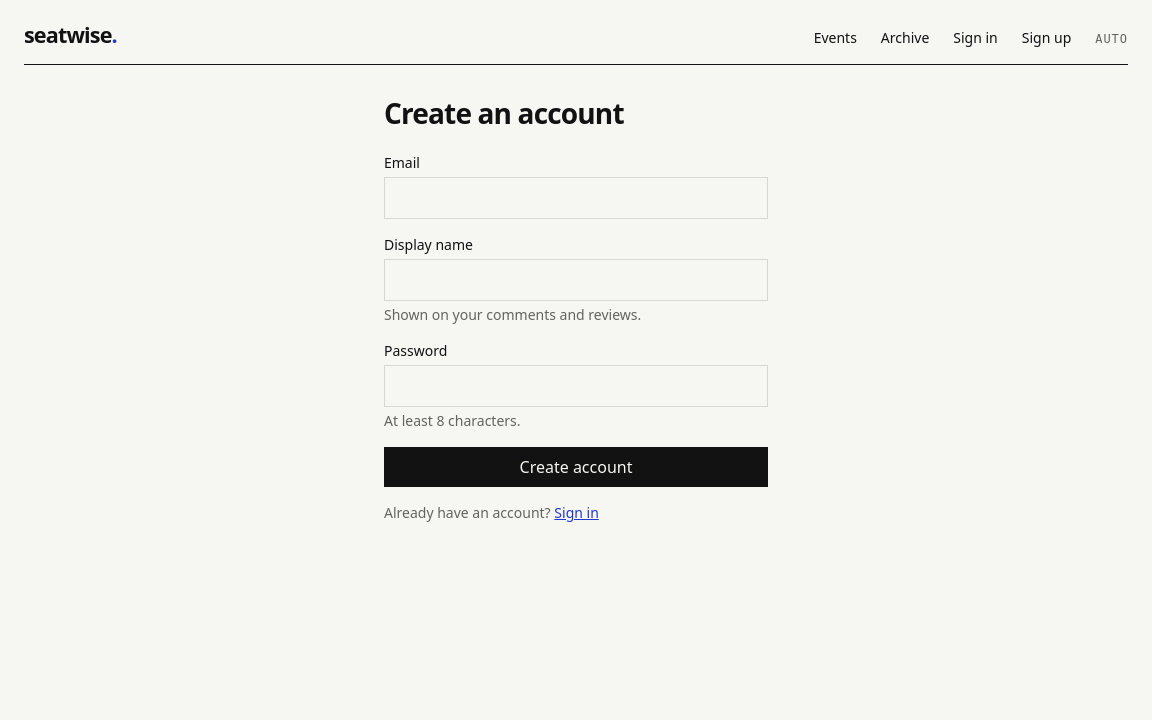
Scenario: register page › shows a taken email next to the email field
Step 1. Type "ana@example.com" into the field labelled "Email" → {"x": 576, "y": 198}, box [384,178,768,220]
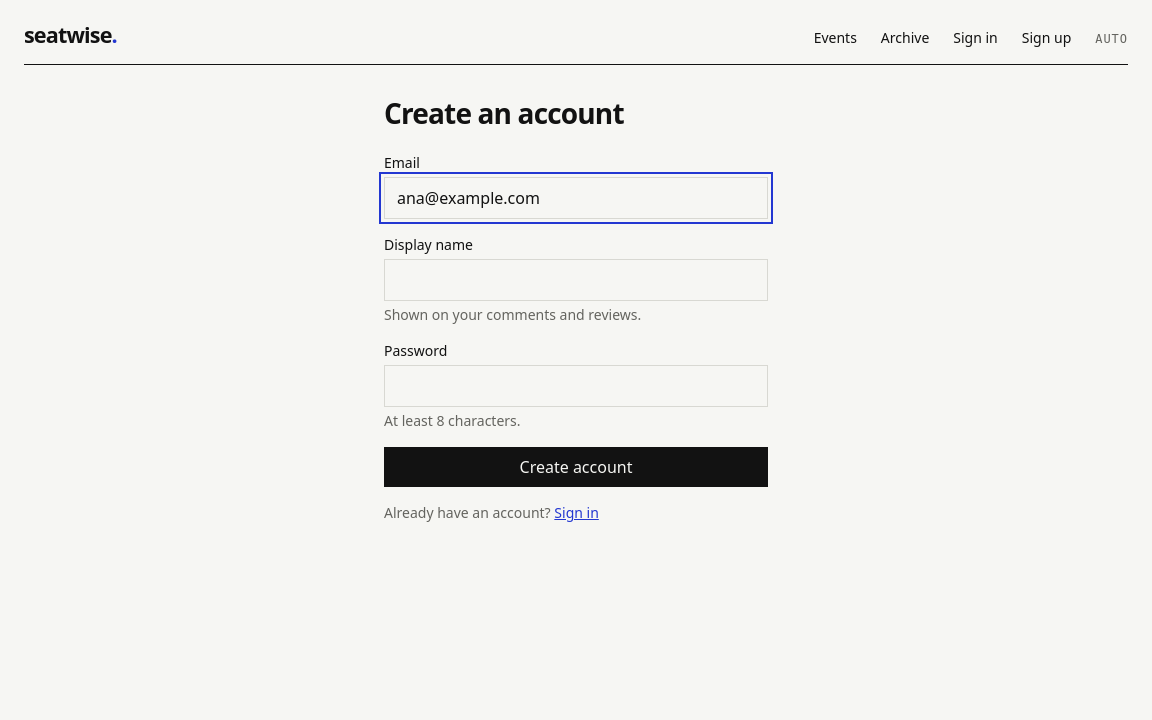
Step 2. Type "Ana" into the field labelled "Display name" → {"x": 576, "y": 280}, box [384,260,768,302]
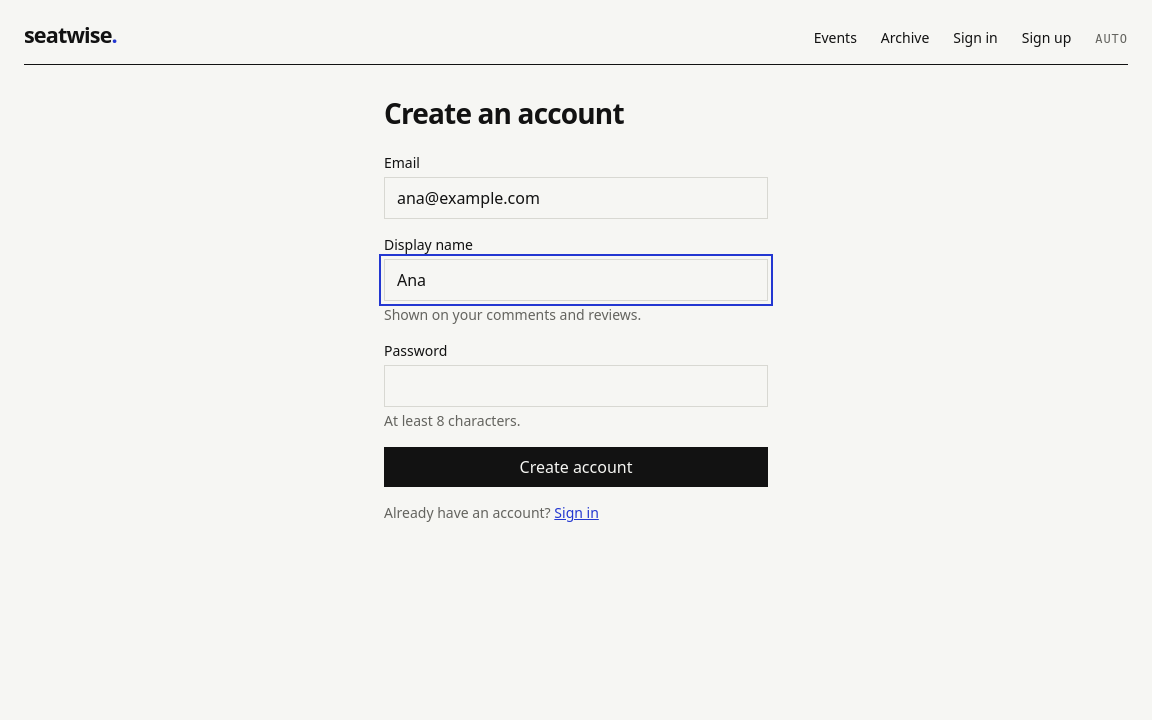
Step 3. Type "long-enough-password" into the password field labelled "Password" → {"x": 576, "y": 386}, box [384,366,768,408]
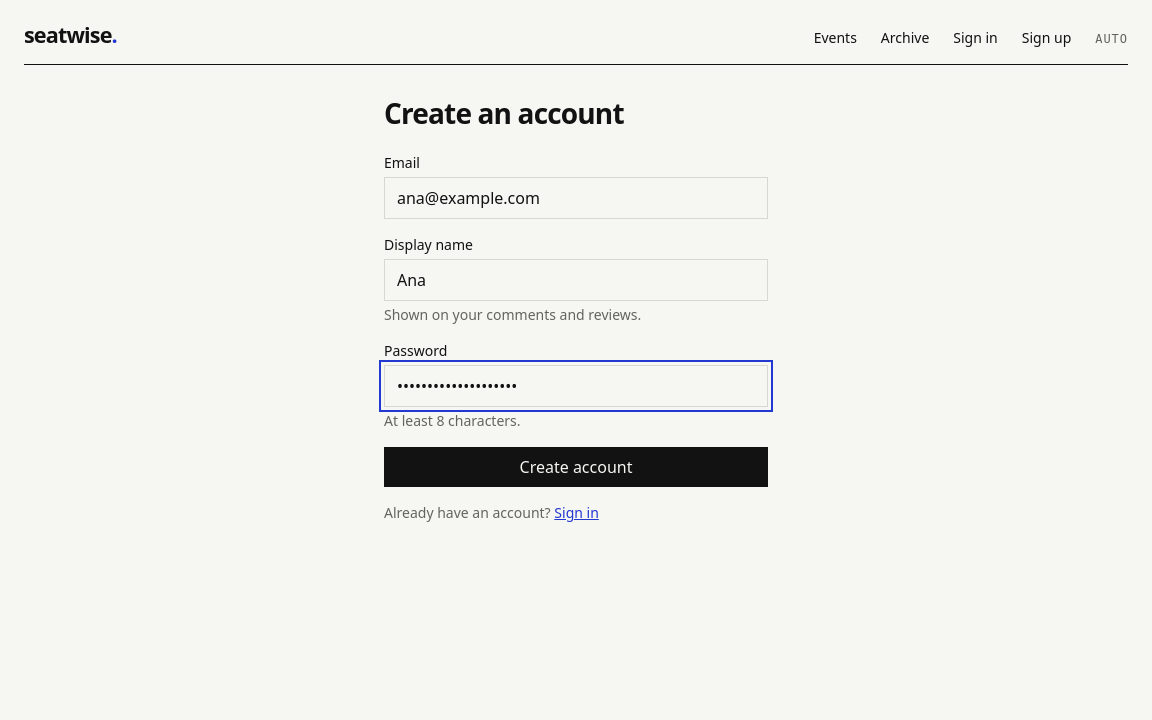
Step 4. Click the button "Create account" → {"x": 576, "y": 468}, box [384,448,768,488]
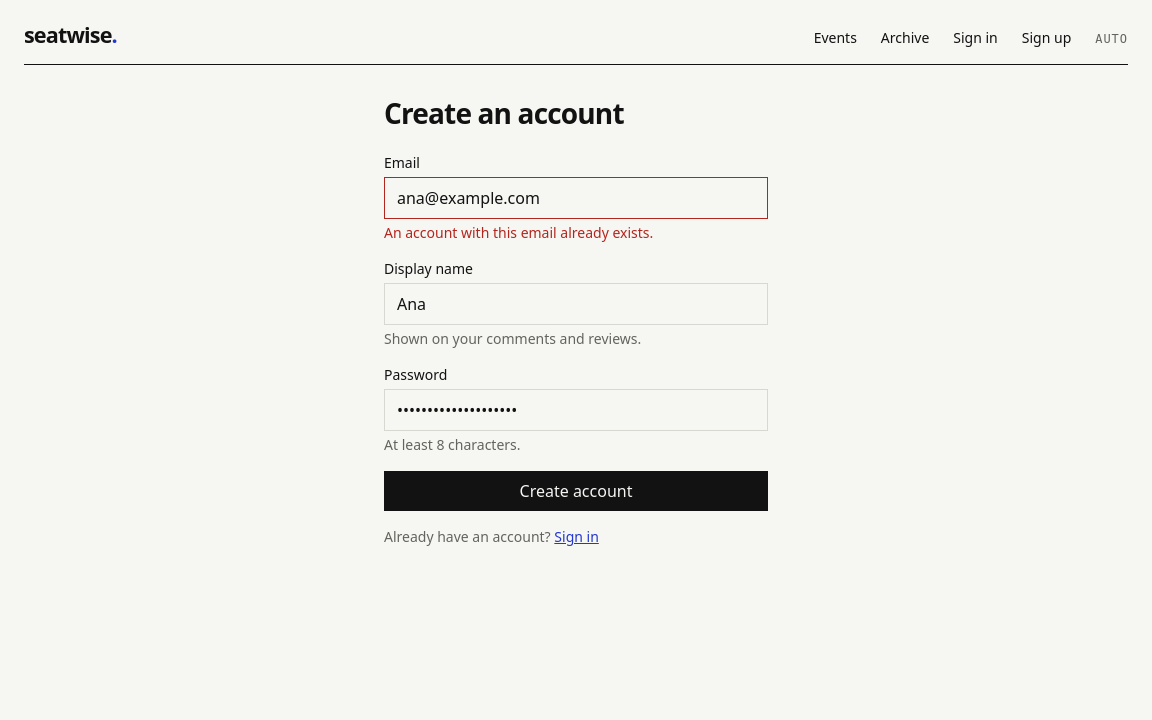
Expected: the text "An account with this email already exists." is shown, [384,224,653,242]
